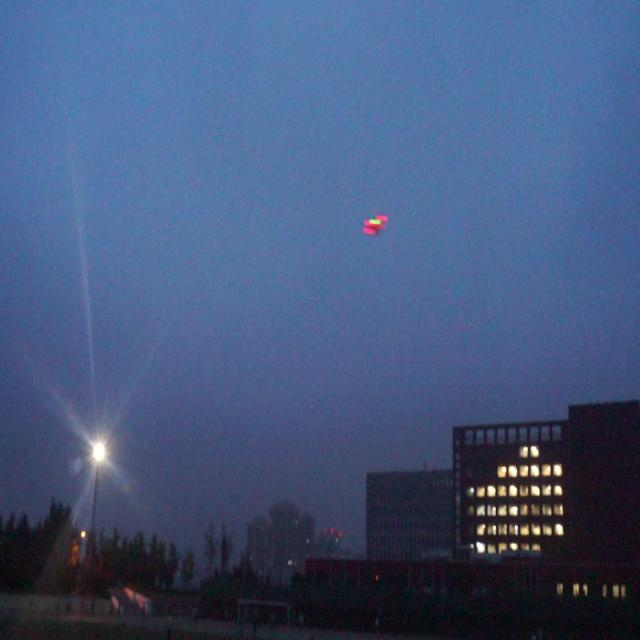UAV: (362, 214, 389, 234)
